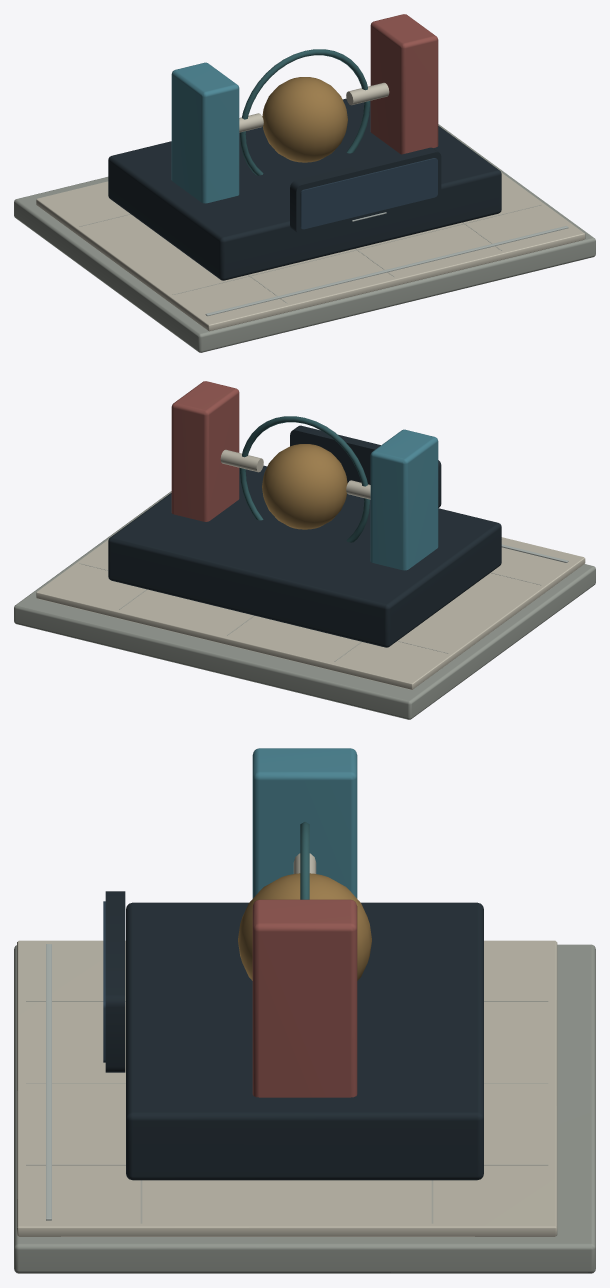
The model's file is idea-8fbc708f.glb.
The picture shows the model from 3 angles, top to bottom: view 1: azimuth 30°, elevation 25°; view 2: azimuth 150°, elevation 25°; view 3: azimuth 270°, elevation 25°; orthographic projection. The views are drawn at different scales.
Visible parts, largest first — view 1: Idea Evaluation Engine; view 2: Idea Evaluation Engine; view 3: Idea Evaluation Engine.
Part boxes in pixels (x1=…): Idea Evaluation Engine: x1=14, y1=14, x2=595, y2=352; Idea Evaluation Engine: x1=14, y1=381, x2=595, y2=719; Idea Evaluation Engine: x1=14, y1=748, x2=595, y2=1273.
Bounding box in the file's own units: 4.8 × 2.15 × 3.9.
